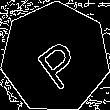P_NW: (26, 26, 85, 89)
